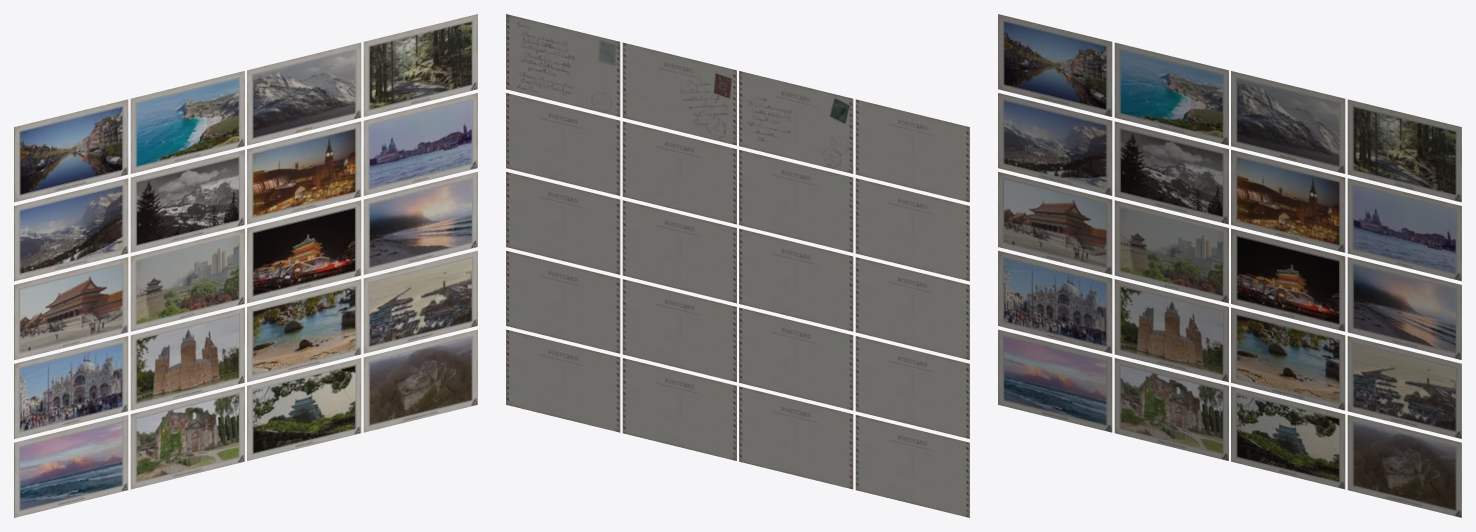
Rendered from postcard_set_01.glb.
3 renders of one model, left to right at view 1: azimuth 30°, elevation 25°; view 2: azimuth 150°, elevation 25°; view 3: azimuth 330°, elevation 25°, orthographic.
Parts seen in each view (by area): view 1: postcard_01, postcard_03, postcard_05, postcard_16, postcard_18, postcard_20, postcard_07, postcard_10, postcard_11, postcard_14, postcard_08, postcard_09 (+8 smaller); view 2: postcard_01, postcard_03, postcard_05, postcard_16, postcard_18, postcard_20, postcard_07, postcard_10, postcard_11, postcard_14, postcard_08, postcard_09 (+8 smaller); view 3: postcard_02, postcard_04, postcard_08, postcard_13, postcard_17, postcard_19, postcard_06, postcard_10, postcard_11, postcard_15, postcard_05, postcard_09 (+8 smaller).
Boxes of the visible parts, <box> form: postcard_01: <box>14,99,128,202</box>; postcard_03: <box>247,42,361,145</box>; postcard_05: <box>14,178,128,281</box>; postcard_16: <box>363,250,477,353</box>; postcard_18: <box>130,386,244,489</box>; postcard_20: <box>363,329,477,432</box>; postcard_07: <box>247,121,361,224</box>; postcard_10: <box>130,228,244,331</box>; postcard_11: <box>247,200,361,303</box>; postcard_14: <box>130,307,244,410</box>; postcard_08: <box>363,93,477,195</box>; postcard_09: <box>14,257,128,359</box>; postcard_01: <box>855,99,969,202</box>; postcard_03: <box>622,42,736,145</box>; postcard_05: <box>855,178,969,281</box>; postcard_16: <box>506,250,620,353</box>; postcard_18: <box>739,386,853,489</box>; postcard_20: <box>506,329,620,432</box>; postcard_07: <box>622,121,736,224</box>; postcard_10: <box>739,228,853,331</box>; postcard_11: <box>622,200,736,303</box>; postcard_14: <box>739,307,853,410</box>; postcard_08: <box>506,93,620,195</box>; postcard_09: <box>855,257,969,359</box>; postcard_02: <box>1114,42,1228,145</box>; postcard_04: <box>1347,99,1461,202</box>; postcard_08: <box>1347,178,1461,281</box>; postcard_13: <box>998,250,1112,353</box>; postcard_17: <box>998,329,1112,432</box>; postcard_19: <box>1231,386,1345,489</box>; postcard_06: <box>1114,121,1228,224</box>; postcard_10: <box>1114,200,1228,303</box>; postcard_11: <box>1231,228,1345,331</box>; postcard_15: <box>1231,307,1345,410</box>; postcard_05: <box>998,93,1112,195</box>; postcard_09: <box>998,172,1112,274</box>.
Size of the model in its own units: 0.6767 by 0.545 by 0.000136.
Materials: 1 (1 with a texture image).
